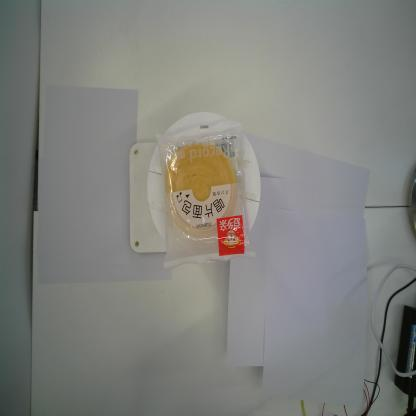Dessert: (154, 119, 256, 272)
